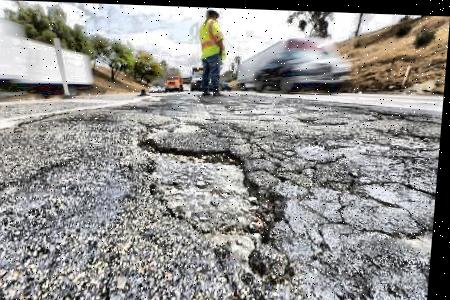pothole: (133, 134, 297, 239), (214, 243, 300, 300), (147, 117, 206, 134)
